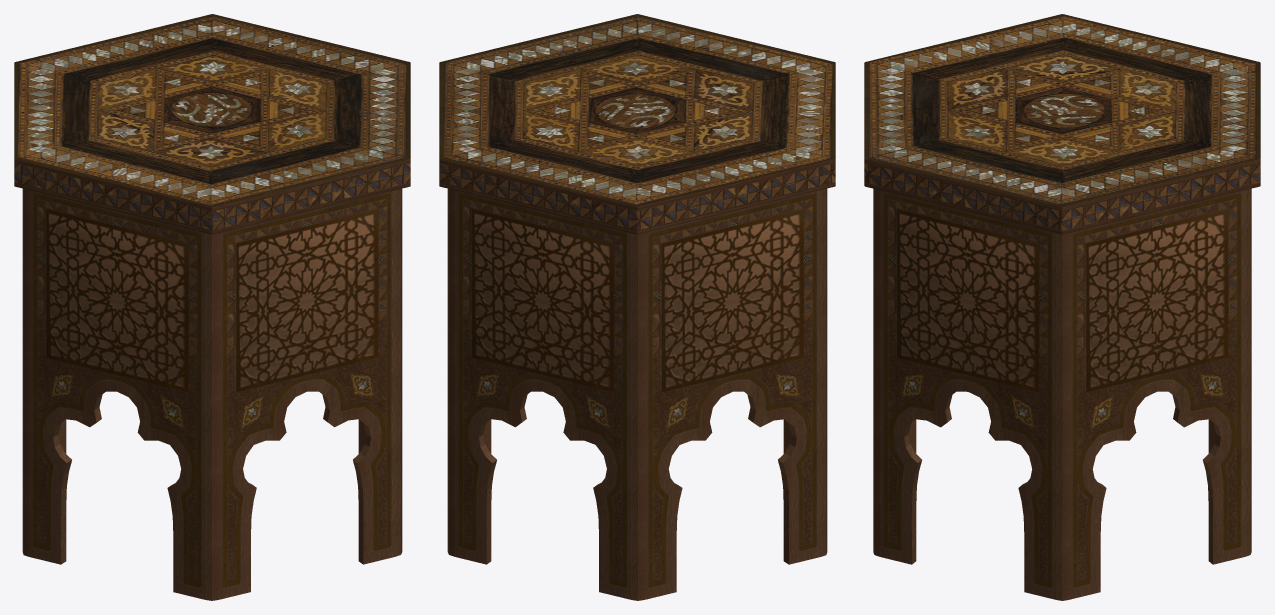
Rendered from Arabic table 1.fbx.
3 renders of one model, left to right at view 1: azimuth 30°, elevation 25°; view 2: azimuth 150°, elevation 25°; view 3: azimuth 270°, elevation 25°, orthographic.
Visible parts, largest first — view 1: Arabic table; view 2: Arabic table; view 3: Arabic table.
Part boxes in pixels (box(x1,y1,x2,y2)): Arabic table: box(14, 14, 410, 600); Arabic table: box(439, 14, 835, 600); Arabic table: box(864, 14, 1260, 600).
Bounding box in the file's own units: 56.36 × 54.17 × 48.86.
Materials: 2 (2 with a texture image).
